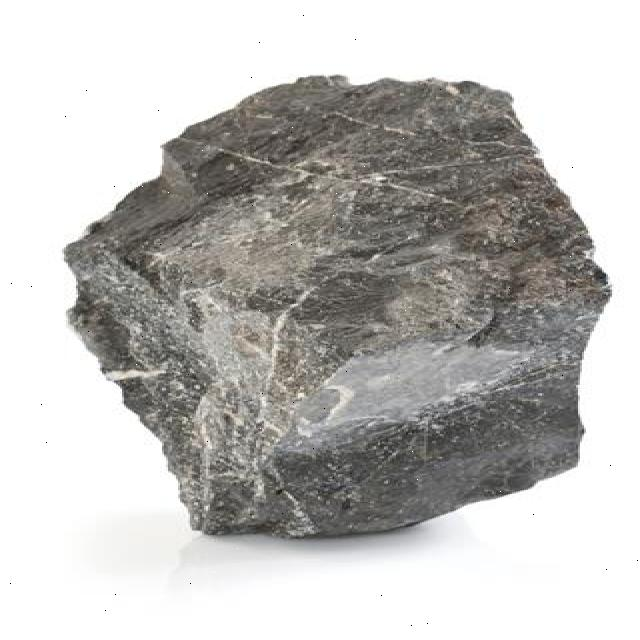Igneous: (54, 69, 606, 539)
